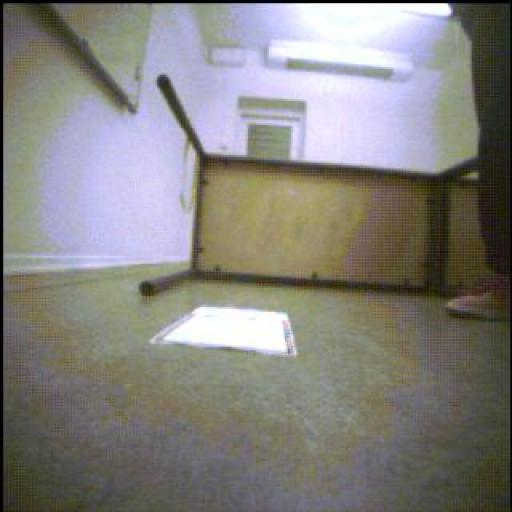Pad: (152, 308, 299, 358)
